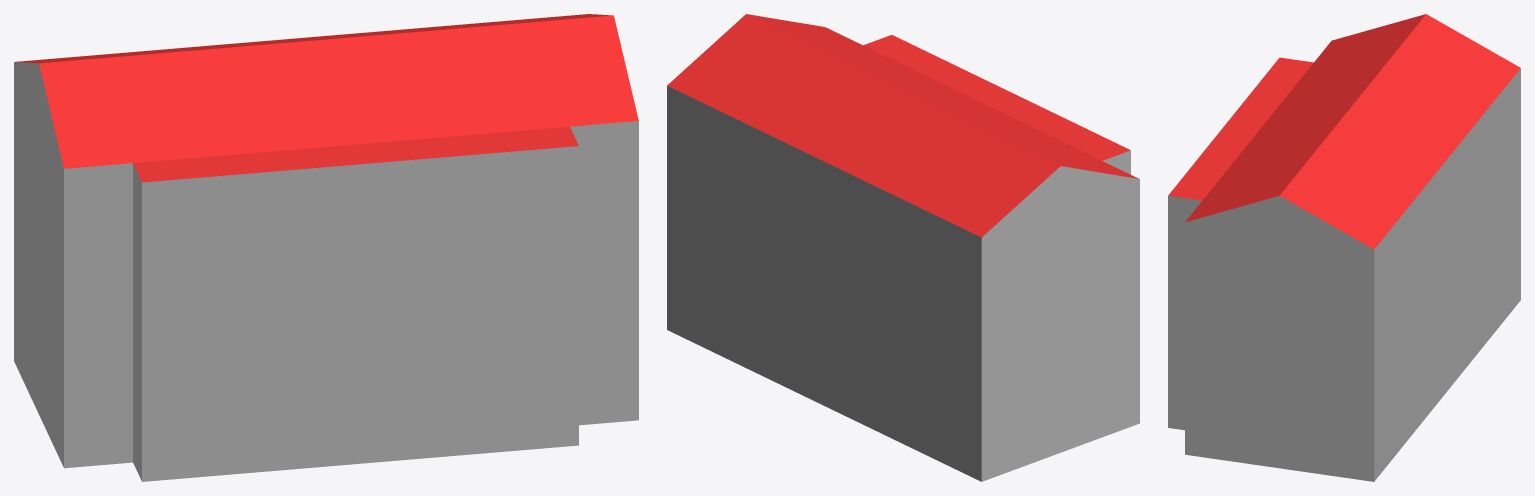
Rendered from pb-9635c105-7f36-11f0-b2f2-9c7bef4dcf4c.dae.
3 renders of one model, left to right at view 1: azimuth 30°, elevation 25°; view 2: azimuth 150°, elevation 25°; view 3: azimuth 270°, elevation 25°, orthographic. The views are drawn at different scales.
Bounding box in the file's own units: 27.21 × 19.41 × 16.55.
